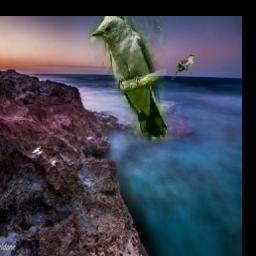Cuckoo: (89, 17, 167, 142), (171, 53, 194, 80)
